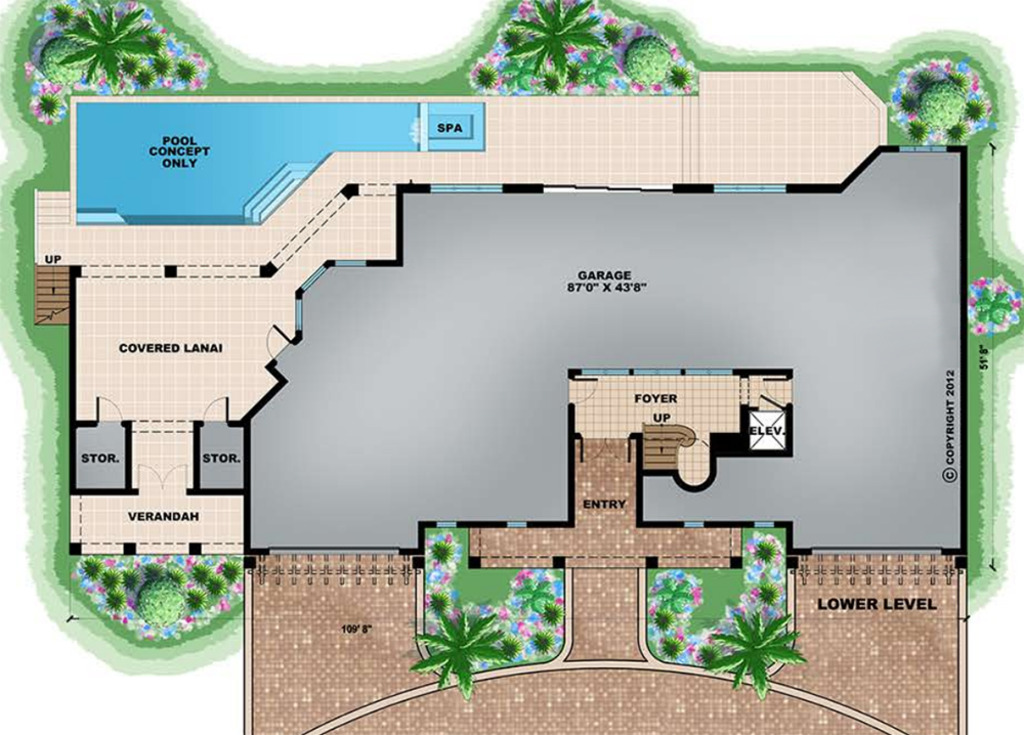door: (200, 394, 240, 428), (93, 396, 128, 426), (265, 324, 292, 360)
stairs: (636, 413, 698, 479), (34, 252, 75, 331)
windows: (426, 179, 506, 200), (709, 180, 793, 198), (498, 519, 533, 527)
